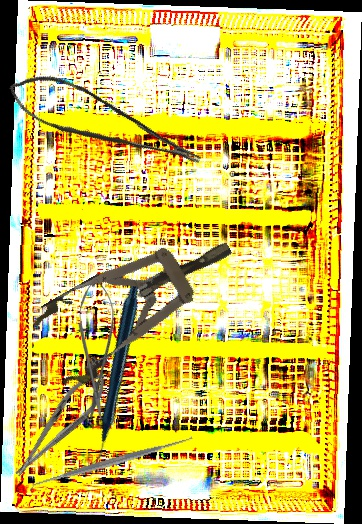Handpiece: (19, 281, 207, 465)
Micro Scissor: (1, 56, 205, 198), (78, 279, 114, 419)
Needle Holder: (4, 363, 116, 486)
Spatula Surgical: (26, 429, 196, 496)
Speculum: (24, 210, 253, 393)
